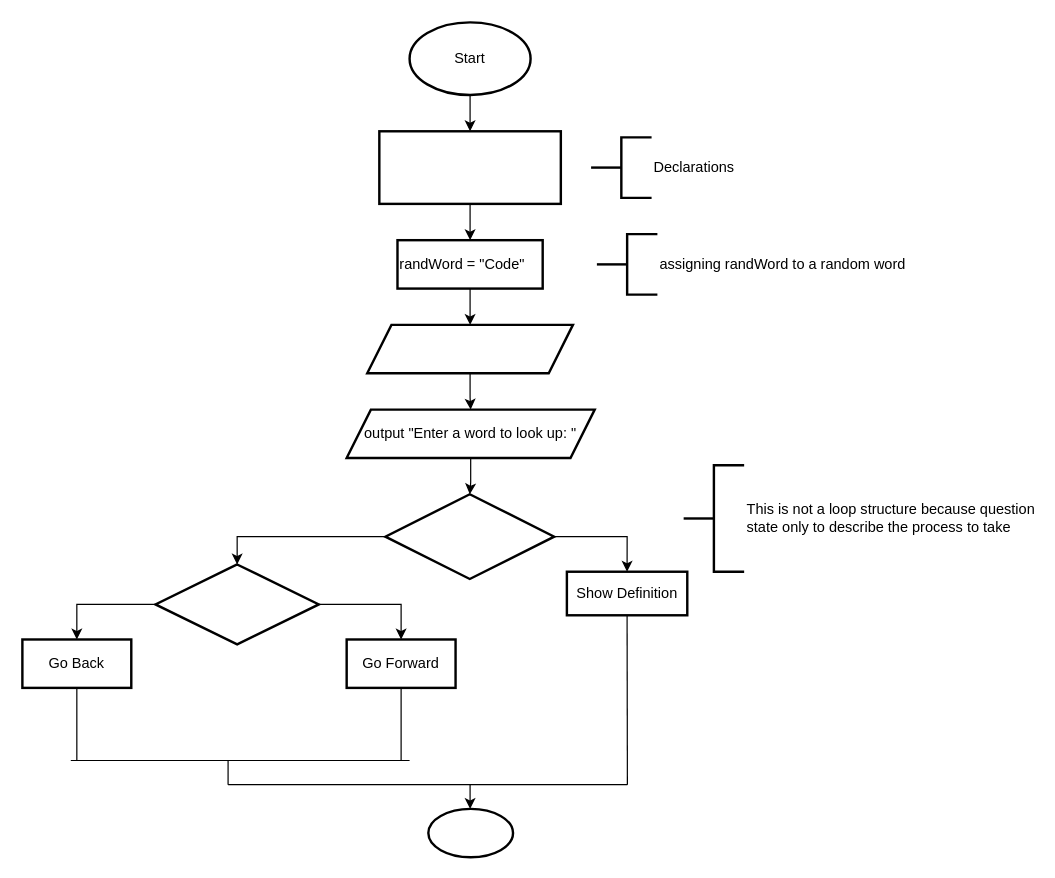
This 1055x878 diagram has some shape labels left out. Each missing label, with the centre of its shape:
Declarations String randWord String wordLookUp: (x=469, y=166)
Is wordLookUp = randWord?: (x=469, y=536)
output "Current Word: " + randWord: (x=469, y=348)
randWord > word: (x=236, y=604)
Stop: (x=470, y=832)
